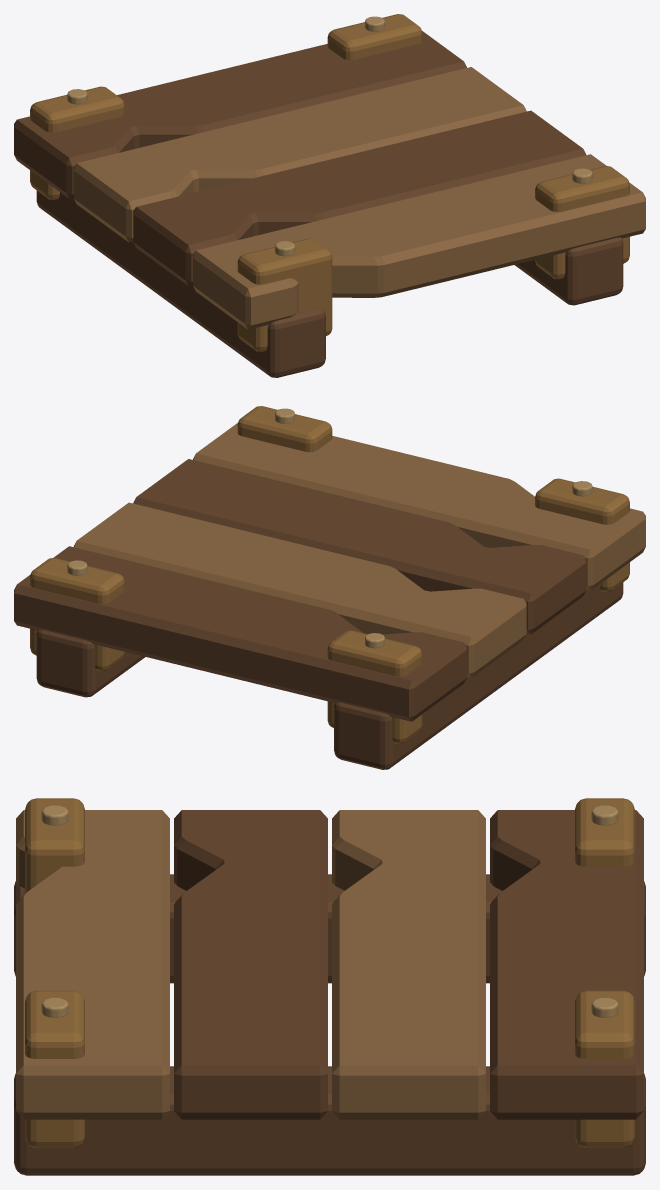
The model's file is VAULT_TIMBER_BRIDGE.hi.glb.
The picture shows the model from 3 angles, top to bottom: view 1: azimuth 30°, elevation 25°; view 2: azimuth 150°, elevation 25°; view 3: azimuth 270°, elevation 25°; orthographic projection. The views are drawn at different scales.
Parts seen in each view (by area): view 1: Body_Mesh; view 2: Body_Mesh; view 3: Body_Mesh.
Boxes of the visible parts, bbox=[...] form: Body_Mesh: bbox=[14, 14, 645, 377]; Body_Mesh: bbox=[14, 406, 645, 769]; Body_Mesh: bbox=[14, 798, 645, 1175].
Bounding box in the file's own units: 0.97 × 0.277 × 1.
